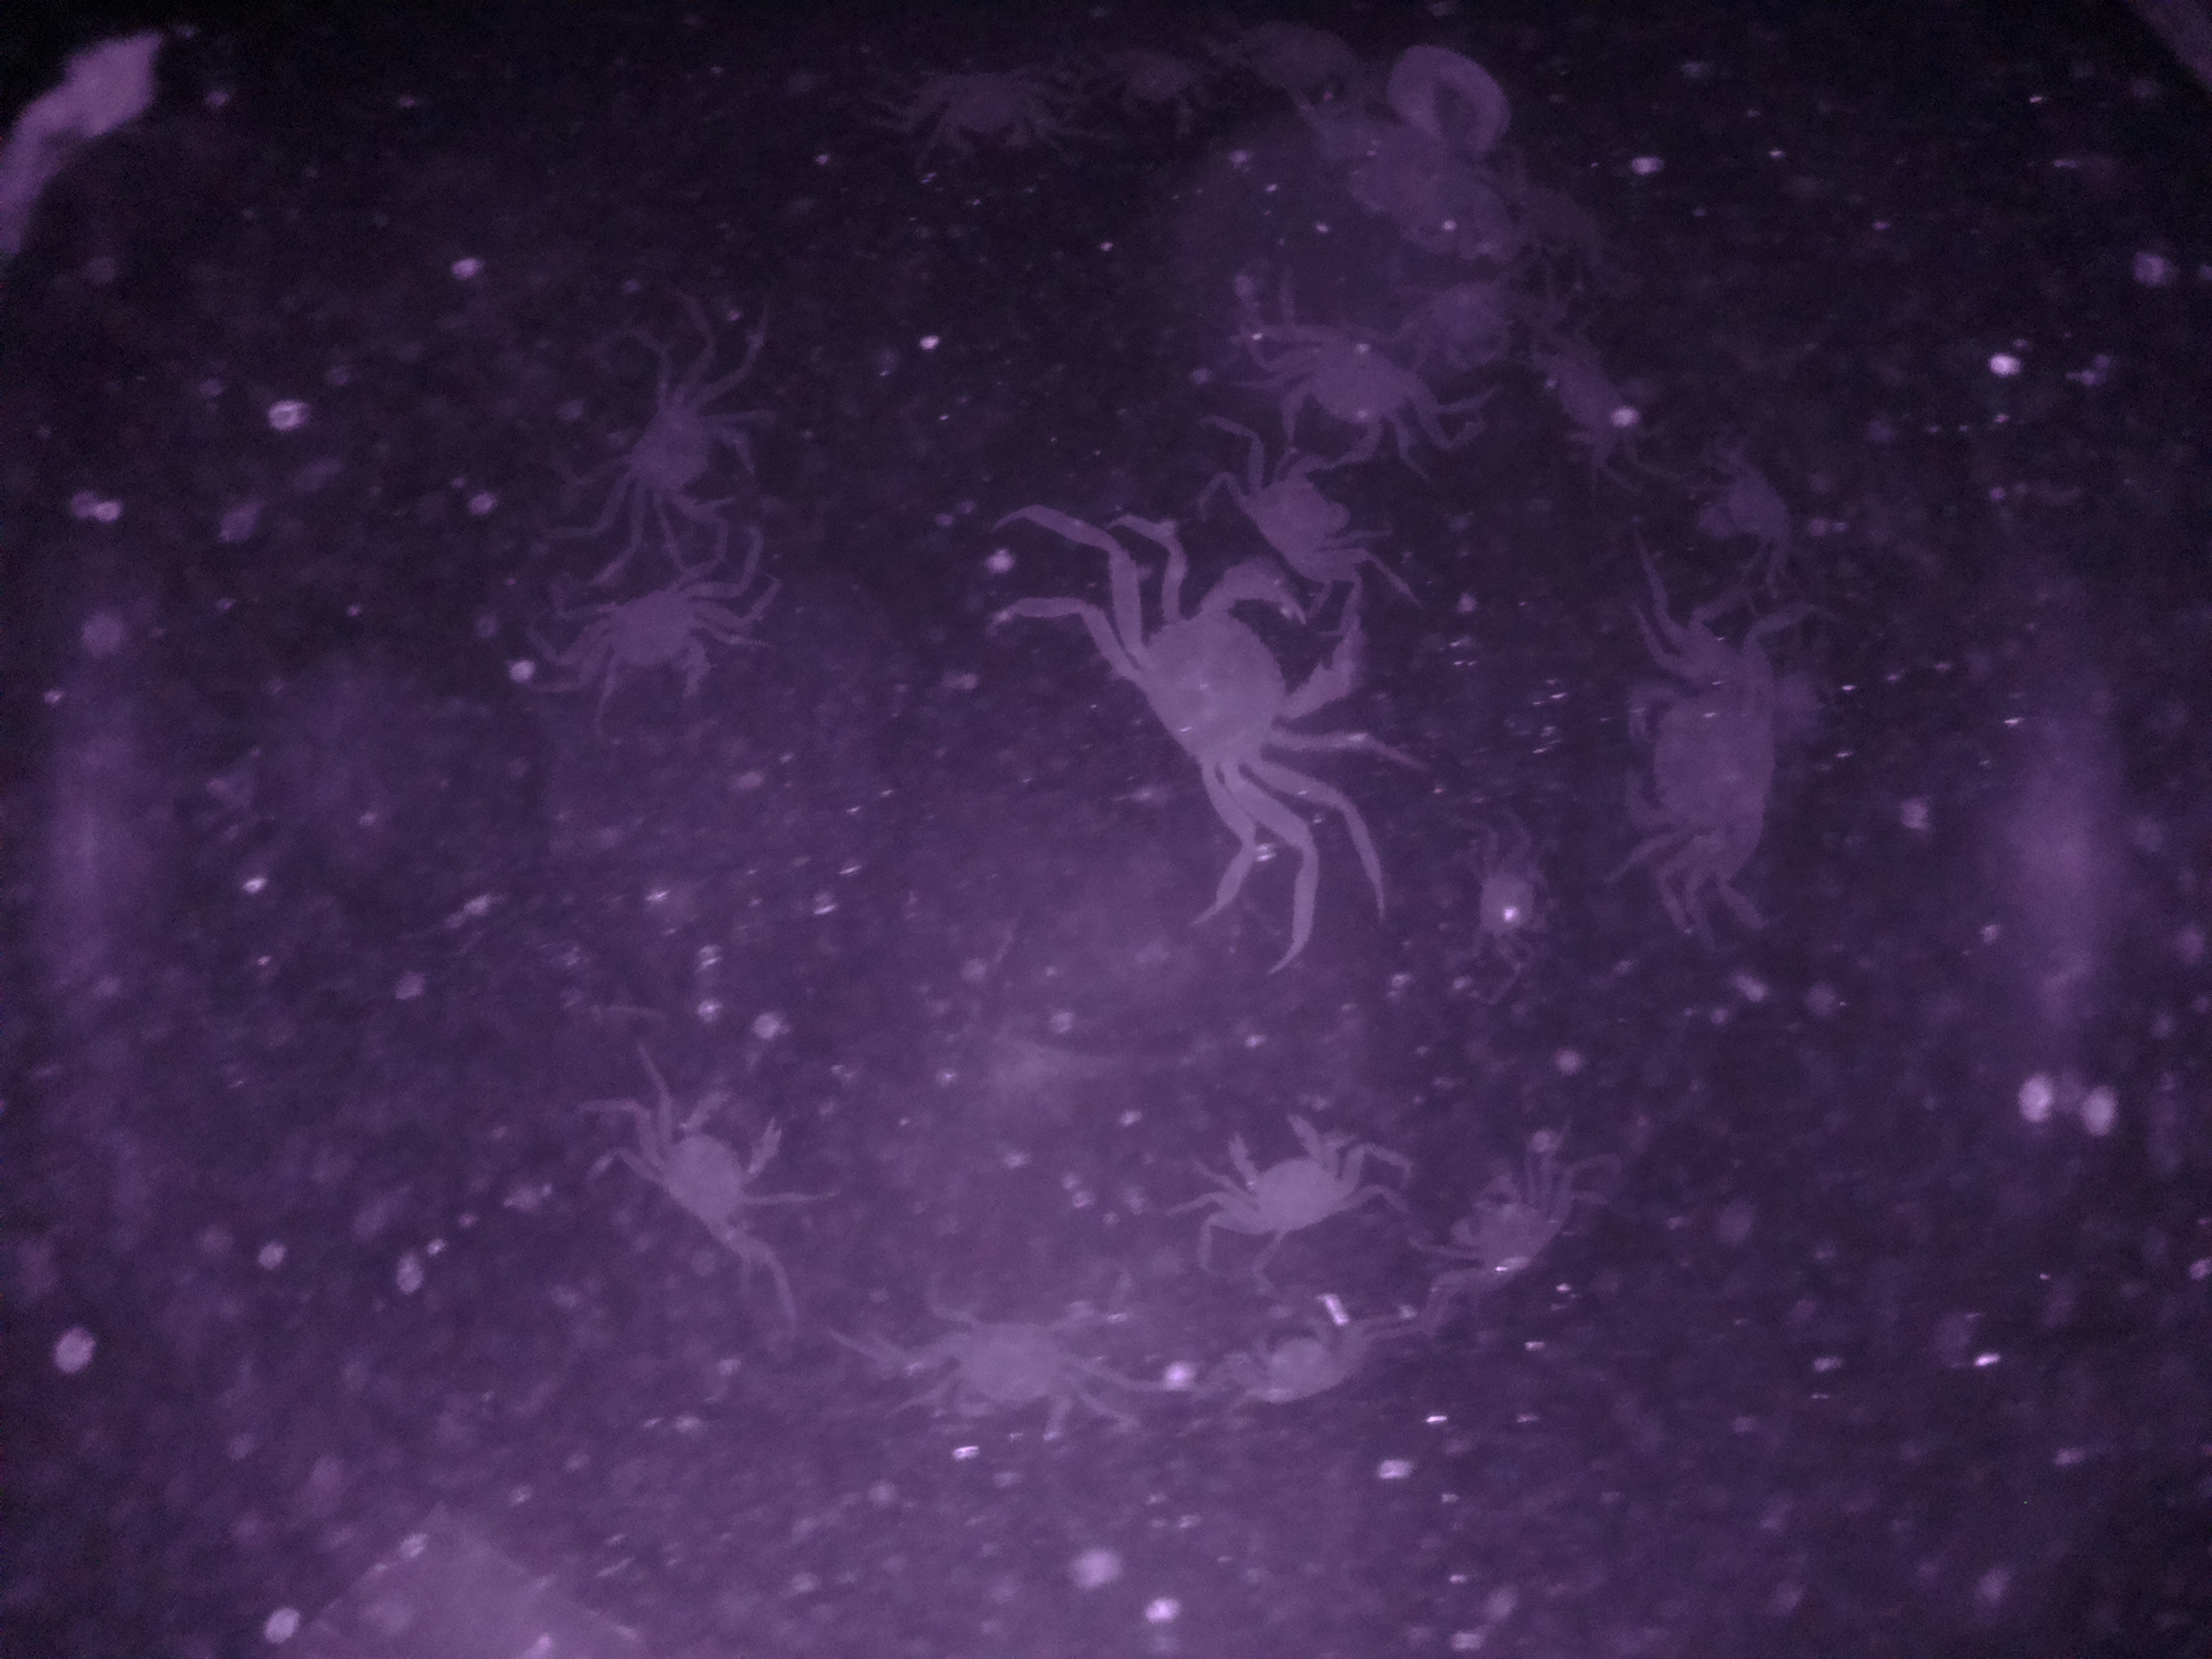Crab: (1097, 572, 1395, 802), (1609, 631, 1822, 904), (620, 1068, 808, 1279), (1242, 307, 1461, 486), (566, 559, 758, 720), (1195, 1105, 1383, 1262), (604, 383, 773, 532), (911, 58, 1078, 162), (1456, 843, 1564, 971)
